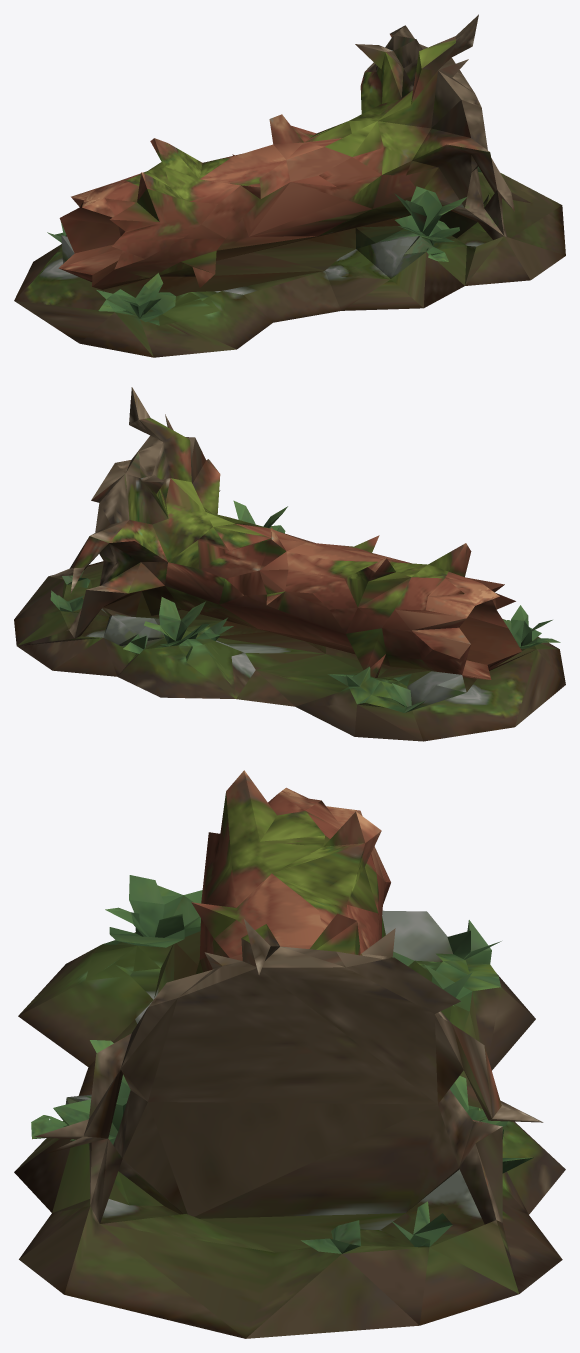
The picture shows the model from 3 angles, top to bottom: view 1: azimuth 30°, elevation 25°; view 2: azimuth 150°, elevation 25°; view 3: azimuth 270°, elevation 25°; orthographic projection. The views are drawn at different scales.
Visible parts, largest first — view 1: fallen_log; view 2: fallen_log; view 3: fallen_log.
Part boxes in pixels (x1=…): fallen_log: x1=14, y1=14, x2=565, y2=357; fallen_log: x1=14, y1=387, x2=565, y2=741; fallen_log: x1=14, y1=770, x2=565, y2=1338.
Bounding box in the file's own units: 0.986 × 0.3941 × 0.556.
1 material, 1 textured.
